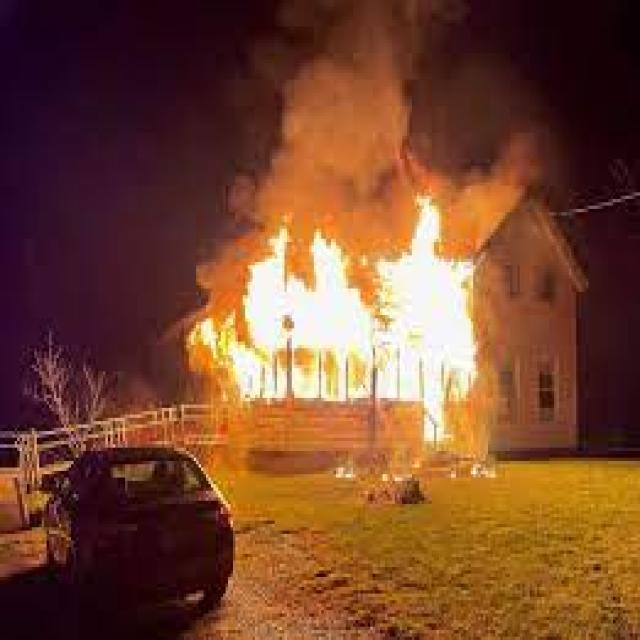Fire: (232, 242, 476, 437)
Smoke: (197, 2, 558, 256)
